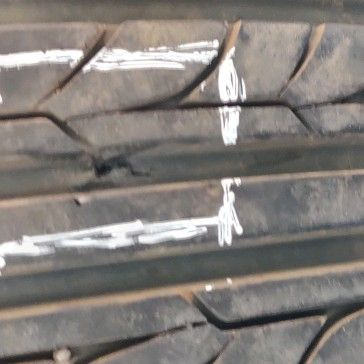tr: (41, 114, 205, 184)
